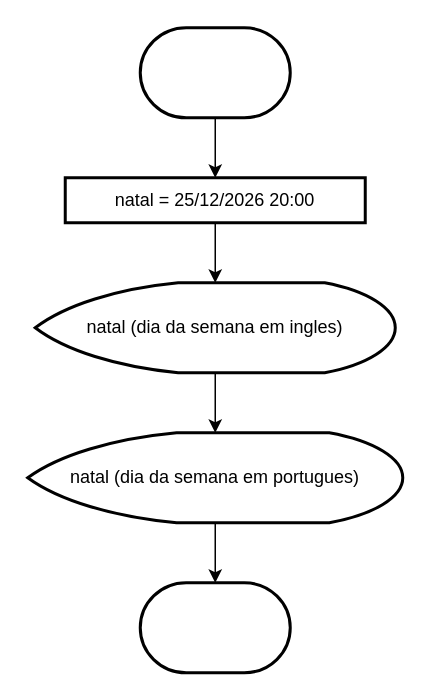
Some shapes in this 429 by 699 pixel diagram are drawn without their labels. Each missing label, with the centre of its shape:
fim: the point at 214,627
inicio: the point at 214,72
